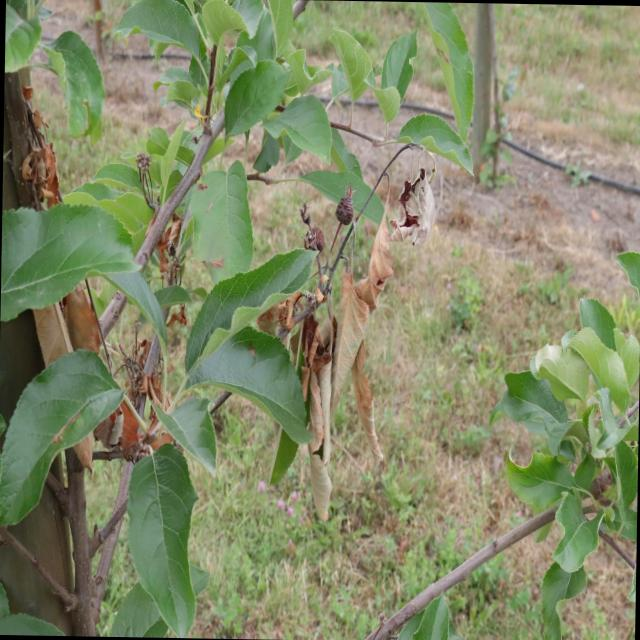-FireBlight-: (291, 225, 354, 530), (1, 59, 78, 210), (96, 315, 170, 449), (345, 241, 385, 463), (134, 194, 196, 310), (400, 159, 444, 253)
